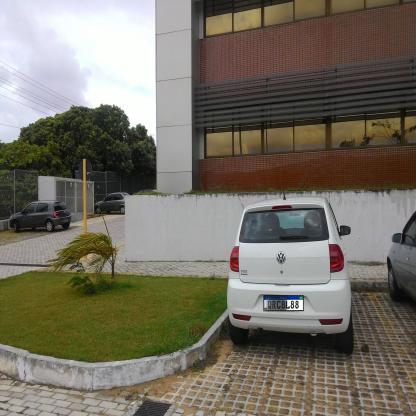PlacaM: (263, 295, 304, 311)
